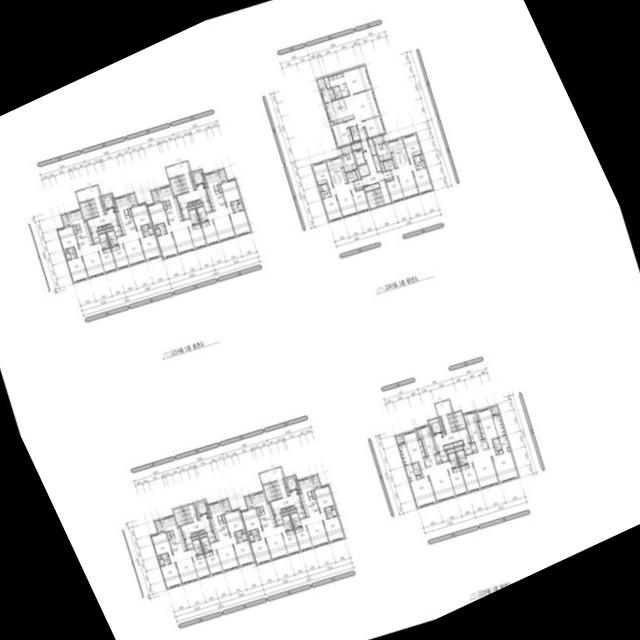background: (0, 0, 640, 640)
space_bedroom: (403, 431, 426, 469), (492, 450, 519, 482), (410, 475, 436, 508), (343, 66, 371, 95), (478, 408, 498, 448), (224, 509, 245, 537), (448, 467, 468, 496), (250, 538, 272, 564), (323, 516, 345, 542), (332, 121, 354, 147), (314, 485, 335, 512), (131, 203, 151, 231), (461, 463, 480, 492), (313, 162, 334, 188), (234, 540, 255, 566), (157, 232, 178, 258), (230, 210, 251, 236), (140, 234, 161, 260), (221, 179, 241, 206), (67, 257, 88, 282), (161, 563, 182, 588), (147, 202, 169, 225), (57, 226, 79, 249), (151, 532, 173, 555), (241, 508, 263, 531), (403, 135, 421, 163), (413, 168, 433, 193), (362, 116, 385, 137), (323, 195, 342, 220), (99, 248, 117, 273), (205, 550, 223, 575), (295, 526, 313, 551), (192, 554, 210, 579), (201, 220, 219, 245), (282, 530, 300, 554), (189, 224, 207, 248), (112, 244, 129, 269), (387, 176, 404, 201), (351, 189, 369, 212)
space_dressroom: (493, 415, 506, 437), (399, 444, 412, 465), (328, 73, 346, 87), (405, 464, 417, 481), (499, 435, 510, 453)
space_elevator: (429, 418, 443, 435), (192, 170, 206, 186), (102, 194, 116, 210), (286, 476, 299, 492), (196, 500, 209, 516), (354, 149, 366, 165)
space_elevator_hall: (76, 185, 119, 232), (259, 467, 302, 514), (166, 161, 208, 208), (433, 400, 470, 451), (361, 140, 386, 188), (181, 504, 212, 538)
space_front: (113, 225, 123, 237), (203, 201, 213, 213), (440, 450, 450, 462), (274, 514, 284, 526), (184, 538, 194, 550), (463, 443, 473, 455), (384, 170, 394, 182), (207, 531, 216, 543), (297, 507, 306, 519), (359, 128, 368, 140), (354, 179, 363, 191), (181, 208, 190, 220), (91, 232, 100, 244)
space_kitchen: (327, 153, 358, 188), (250, 491, 277, 531), (160, 516, 187, 555), (157, 185, 183, 225), (67, 209, 93, 249), (464, 411, 489, 452), (375, 139, 410, 168), (416, 425, 437, 468), (115, 195, 137, 235), (298, 477, 320, 517), (208, 501, 230, 541), (205, 171, 227, 211), (325, 97, 354, 124)
space_living_room: (421, 461, 455, 501), (466, 447, 499, 488), (348, 90, 379, 130), (117, 230, 146, 265), (169, 549, 198, 584), (300, 512, 329, 547), (210, 536, 239, 571), (206, 206, 235, 241), (76, 243, 105, 277), (259, 525, 288, 559), (166, 219, 194, 253), (330, 182, 357, 216), (392, 163, 419, 197)
space_other: (321, 88, 336, 103), (358, 164, 370, 177), (373, 155, 382, 172), (368, 139, 377, 155), (364, 183, 380, 191), (100, 197, 106, 213), (190, 173, 196, 189), (283, 479, 289, 495), (194, 503, 200, 519), (470, 442, 478, 453), (352, 142, 362, 150), (435, 453, 442, 464), (325, 77, 331, 88), (355, 169, 361, 180), (454, 440, 464, 446), (444, 443, 454, 449), (380, 162, 386, 172), (455, 445, 463, 451), (98, 229, 106, 234), (281, 511, 289, 516), (191, 535, 199, 540), (199, 533, 207, 538), (447, 448, 455, 453), (106, 227, 114, 232), (416, 430, 420, 439), (476, 412, 480, 421), (188, 205, 195, 210), (218, 185, 222, 193), (128, 209, 132, 217), (73, 226, 77, 234), (163, 201, 167, 209), (222, 515, 226, 523), (312, 491, 316, 499), (167, 532, 171, 540), (257, 507, 261, 515), (289, 509, 297, 513), (442, 426, 446, 434), (440, 417, 444, 425), (196, 203, 203, 207), (420, 154, 424, 160), (319, 185, 322, 191), (188, 202, 192, 206), (153, 225, 157, 229), (192, 201, 197, 204), (281, 509, 286, 512), (200, 530, 205, 533), (191, 533, 196, 536), (290, 506, 295, 509), (196, 200, 201, 203), (102, 225, 107, 228), (380, 145, 383, 149), (347, 155, 350, 159), (239, 199, 242, 203), (64, 249, 67, 253), (98, 227, 102, 230), (107, 224, 111, 227), (243, 529, 246, 533), (157, 555, 160, 559), (333, 505, 336, 509), (247, 531, 250, 535), (196, 531, 200, 534), (286, 507, 290, 510), (496, 451, 499, 455), (420, 474, 423, 478), (508, 447, 511, 451), (149, 223, 152, 227), (331, 122, 334, 125), (409, 478, 412, 481), (204, 184, 207, 186), (208, 514, 210, 516), (298, 490, 300, 492), (115, 208, 117, 210)
space_outdoor_room: (341, 145, 353, 155), (151, 190, 160, 203), (61, 214, 70, 227), (373, 135, 384, 145), (317, 78, 327, 89), (219, 169, 227, 182), (223, 499, 231, 512), (245, 496, 253, 509), (155, 520, 163, 533), (313, 475, 321, 488), (129, 193, 137, 206), (396, 435, 405, 445), (491, 406, 500, 416)
space_staircase: (366, 186, 391, 208), (170, 175, 189, 195), (263, 481, 282, 501), (447, 411, 466, 431), (80, 200, 99, 219), (174, 506, 193, 525)
space_toilet: (333, 84, 349, 99), (414, 155, 426, 170), (107, 230, 118, 246), (197, 206, 208, 222), (457, 450, 468, 465), (282, 515, 293, 530), (192, 539, 203, 554), (350, 126, 361, 141), (201, 536, 211, 552), (449, 452, 459, 468), (291, 512, 301, 528), (189, 209, 199, 224), (99, 233, 109, 248), (346, 170, 358, 182), (383, 159, 395, 171), (321, 184, 331, 198), (160, 553, 171, 565), (67, 247, 77, 259), (250, 529, 260, 540), (157, 223, 167, 234), (231, 200, 239, 212), (235, 530, 243, 542), (325, 506, 333, 518), (141, 224, 149, 236), (494, 443, 502, 451), (412, 462, 420, 470), (492, 438, 501, 445), (414, 468, 422, 475), (66, 252, 72, 260), (159, 558, 165, 566), (249, 534, 255, 542), (331, 509, 337, 517), (241, 533, 247, 541), (238, 203, 243, 211), (156, 228, 161, 236), (148, 227, 153, 235)
